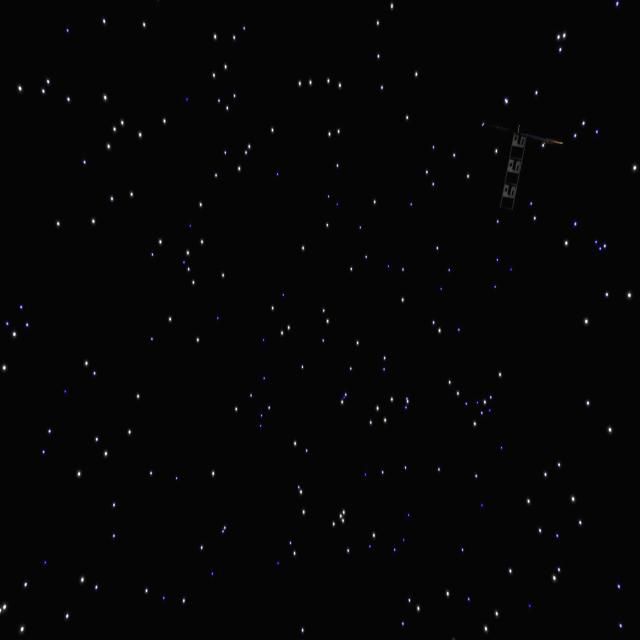satellite: (464, 112, 566, 212)
